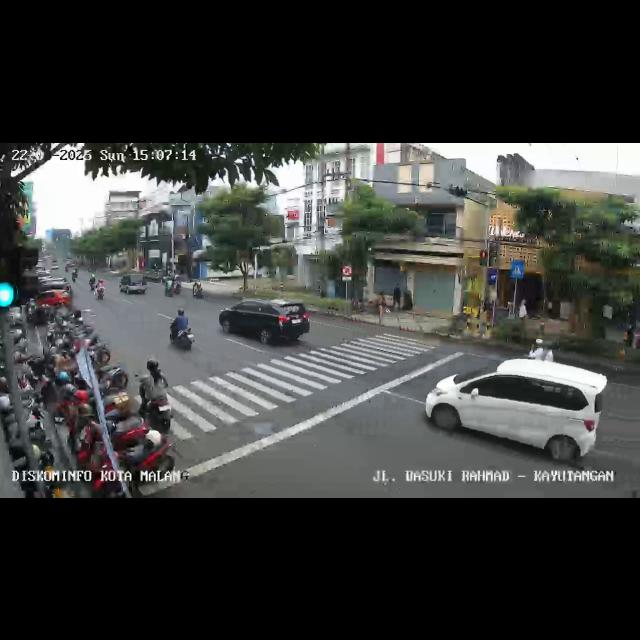car: (430, 356, 602, 468), (220, 296, 310, 348), (27, 278, 71, 312), (118, 270, 148, 296), (0, 280, 16, 314)
motorcycle: (142, 360, 172, 430), (167, 308, 195, 352), (93, 275, 105, 299)
